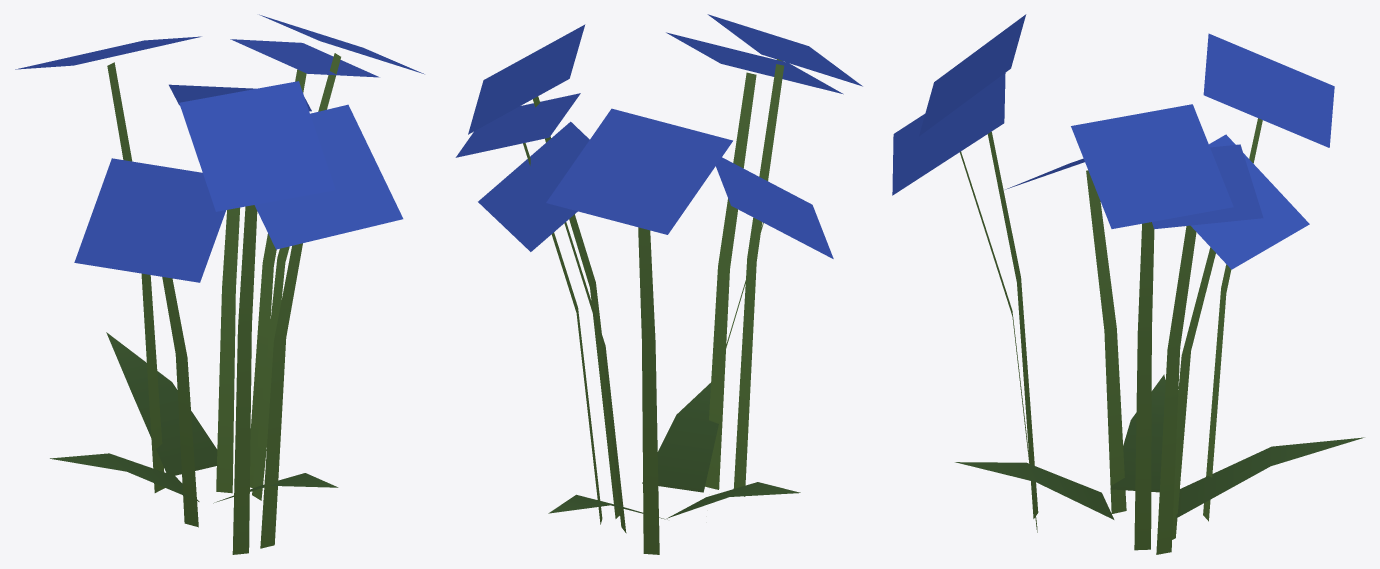
File: flower.alpine.blue.glb
The picture shows the model from 3 angles, left to right: view 1: azimuth 30°, elevation 25°; view 2: azimuth 150°, elevation 25°; view 3: azimuth 270°, elevation 25°; orthographic projection. The views are drawn at different scales.
Visible parts, largest first — view 1: flower_alpine_blue; view 2: flower_alpine_blue; view 3: flower_alpine_blue.
Part boxes in pixels (bbox=[...]): flower_alpine_blue: bbox=[15, 14, 424, 554]; flower_alpine_blue: bbox=[455, 14, 862, 554]; flower_alpine_blue: bbox=[892, 14, 1364, 554].
Bounding box in the file's own units: 0.1473 × 0.1866 × 0.1703.
